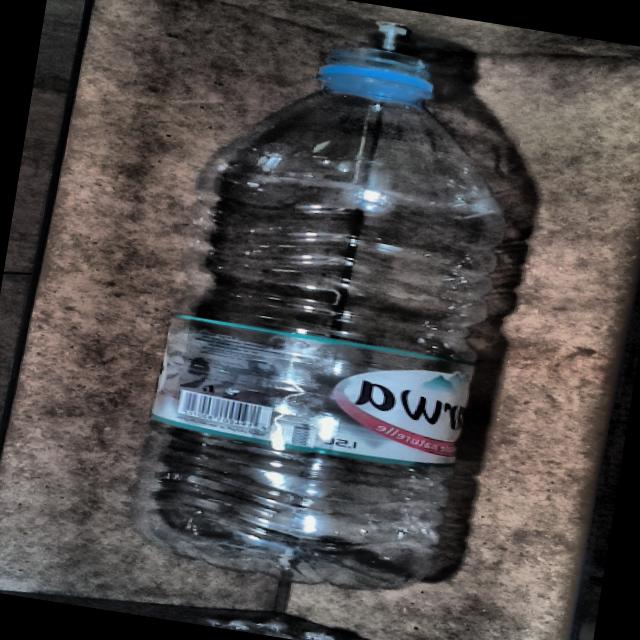plastic bottle: (135, 48, 503, 590)
